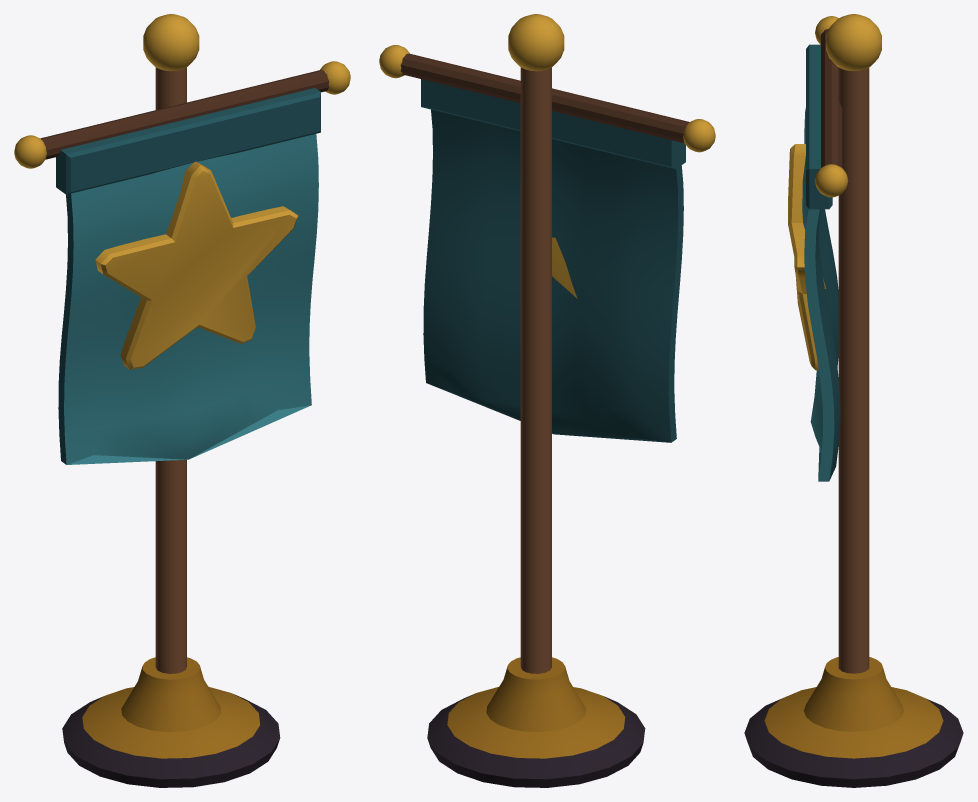
The model's file is Banner_04.glb.
3 views of the same model, side by side, from view 1: azimuth 30°, elevation 25°; view 2: azimuth 150°, elevation 25°; view 3: azimuth 270°, elevation 25° (orthographic).
Parts seen in each view (by area): view 1: Banner_04; view 2: Banner_04; view 3: Banner_04.
Part boxes in pixels (x1,y1,x2,y2): Banner_04: (14, 14, 350, 787); Banner_04: (379, 14, 715, 787); Banner_04: (744, 14, 963, 787).
Bounding box in the file's own units: 3.43 × 7.16 × 1.96.
